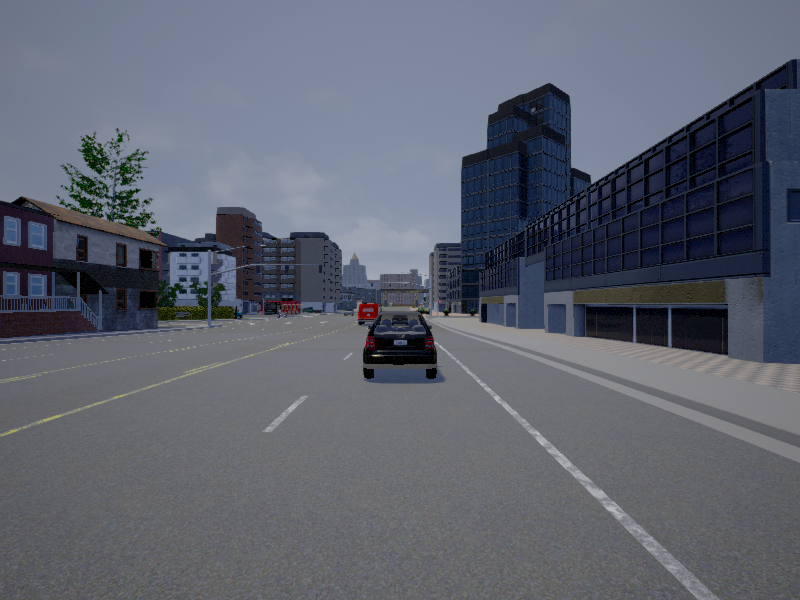Benign: (364, 306, 438, 378), (357, 304, 379, 326)
